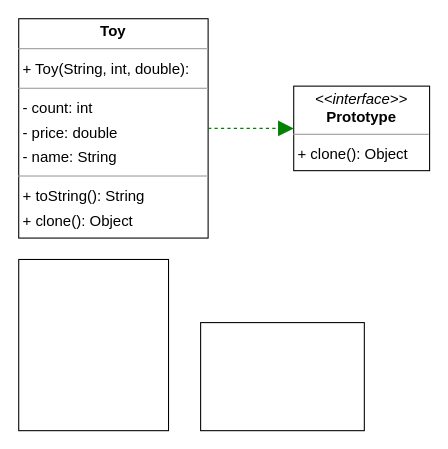
Some shapes in this 448 by 449 pixel diagram are drawn without their labels. Here are the shapes that lost their labels. From the top down, the centre of each, then its label:
At point (93, 344): "Shop + Shop(Toy): ~ toy: Toy + setToy(Toy): void + createToy(): Toy".
At point (282, 376): "Main + Main(): + main(String[]): void".
